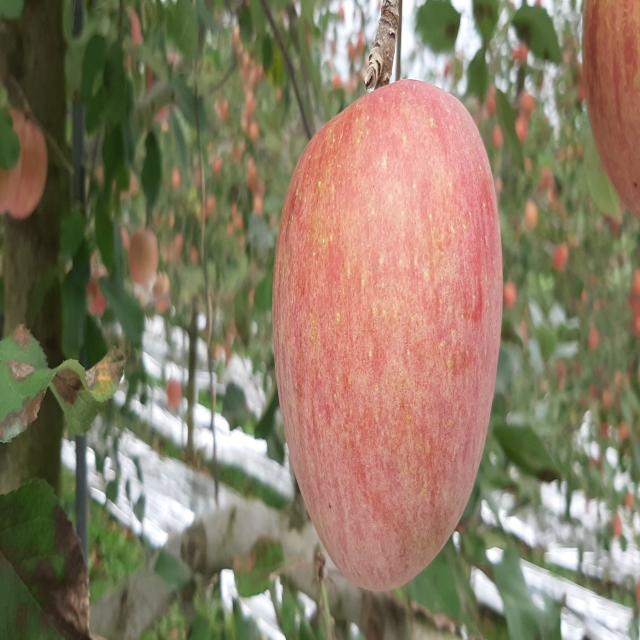fresh: (269, 69, 509, 606)
